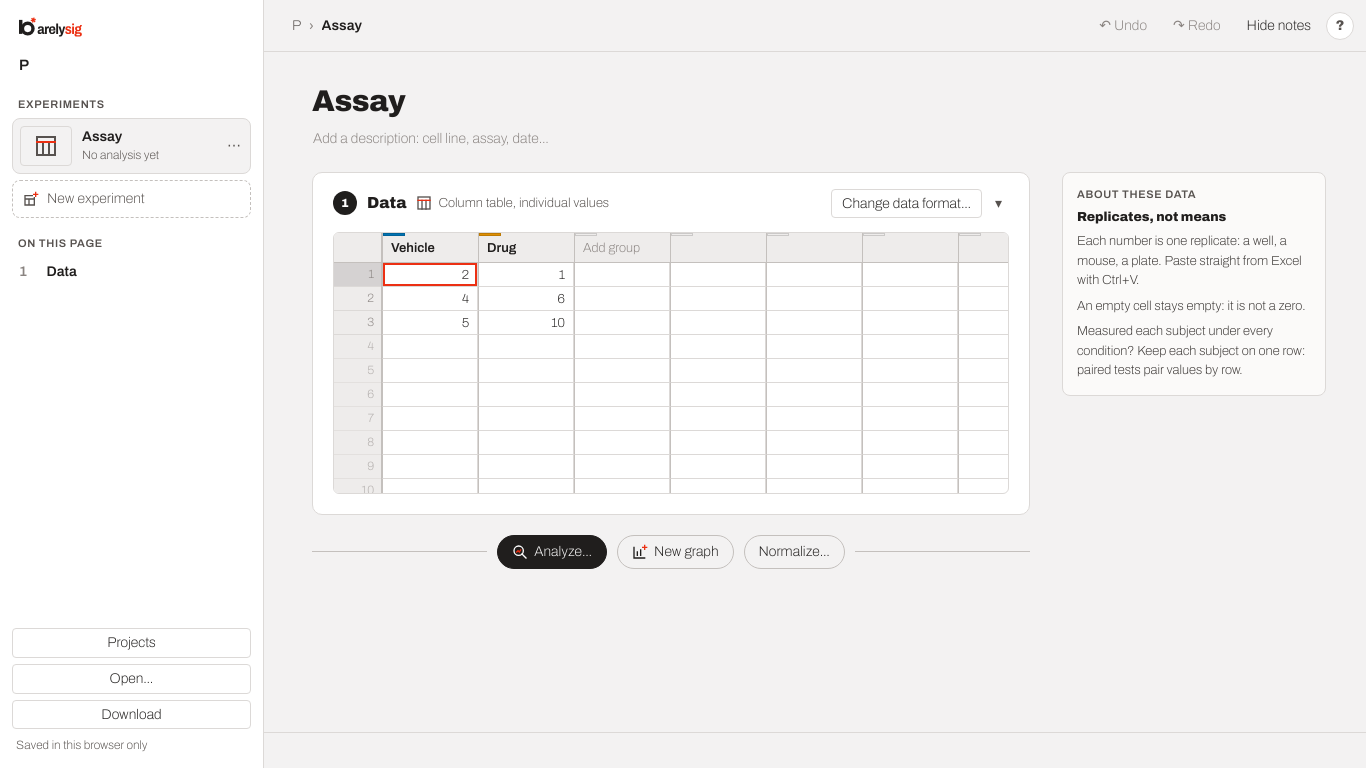
Test case: Normalize › refuses a control of zero in words and keeps the button off
Step 1. Click the button "Normalize…" → (794, 552), box [744,535,845,569]
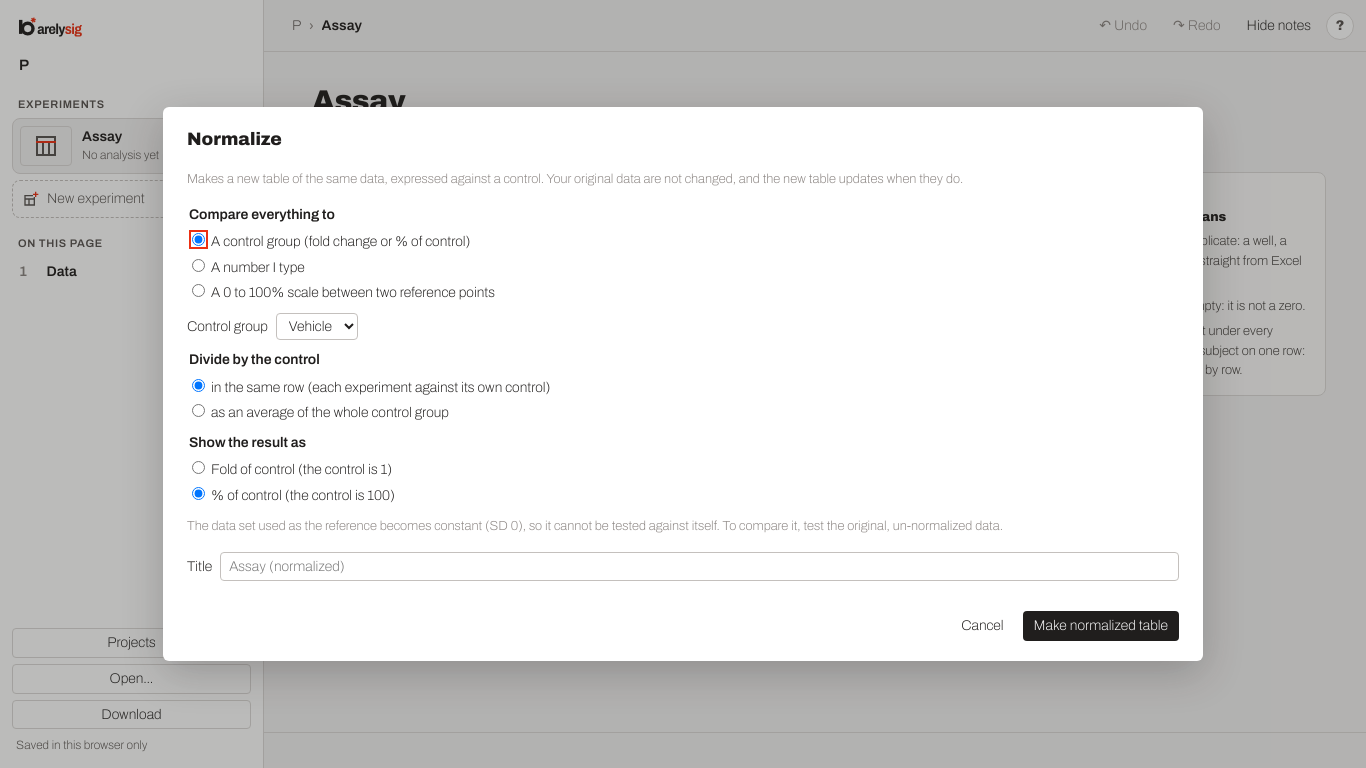
Step 2. Click the radio button labelled "as an average of the whole control group" → (198, 411), box [192,404,205,417]
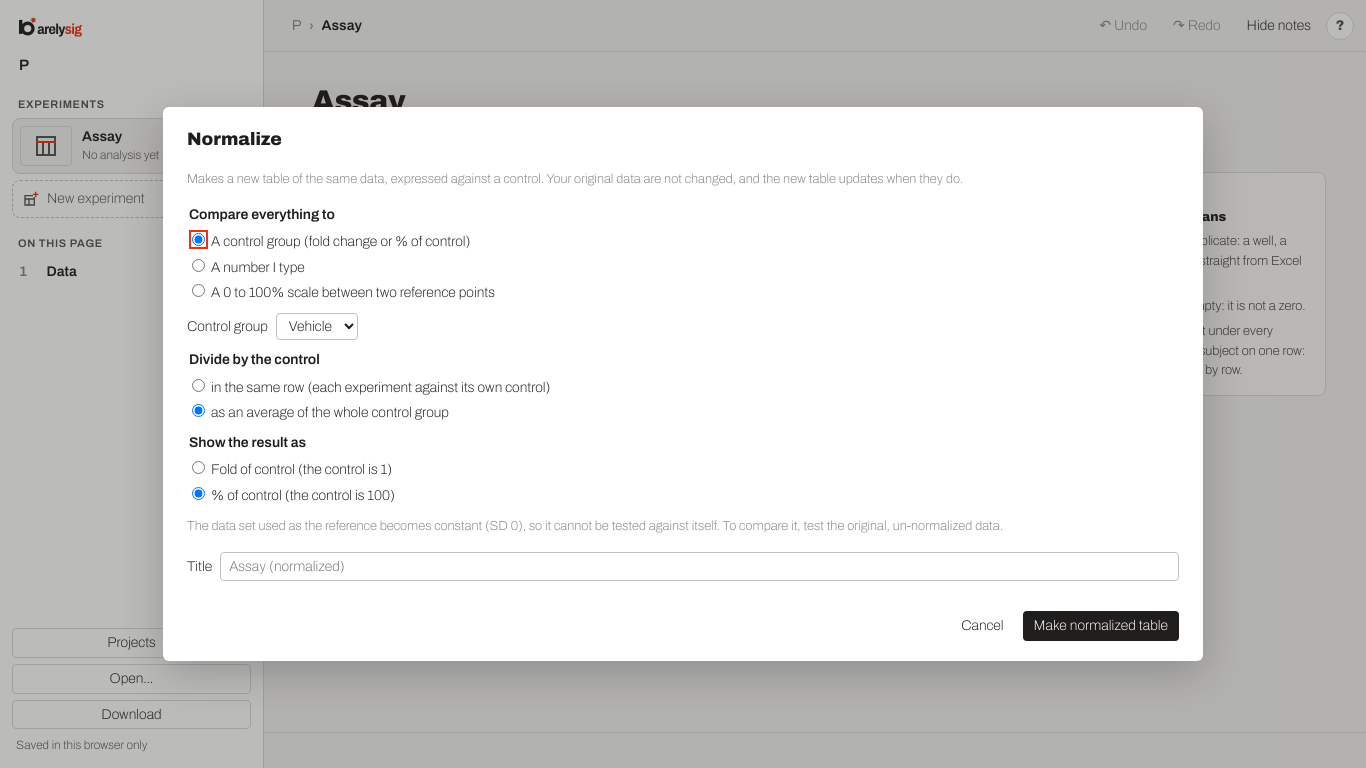
Step 3. Click the radio button labelled "A number I type" → (198, 265), box [192,259,205,272]
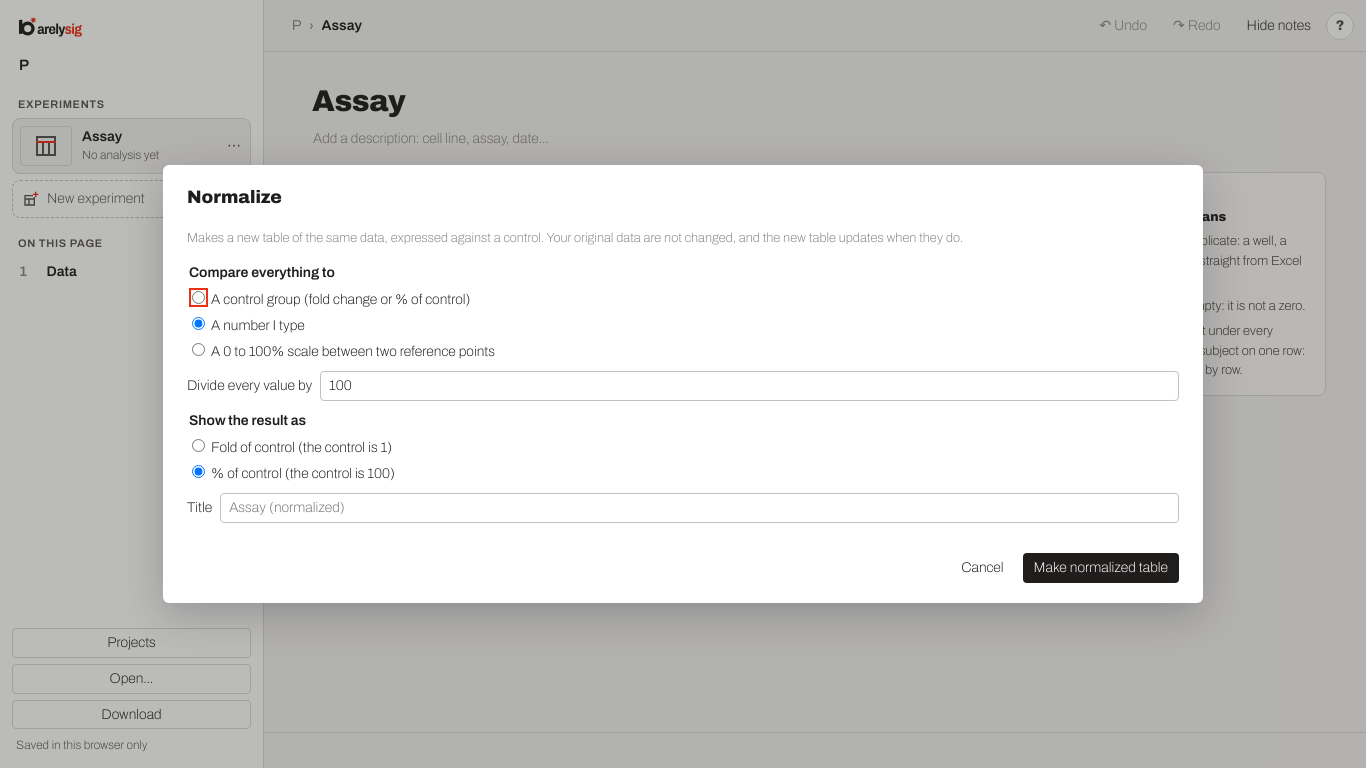
Step 4. Replace the text in the field labelled "Divide every value by" with "0" → (750, 386), box [320,371,1179,401]
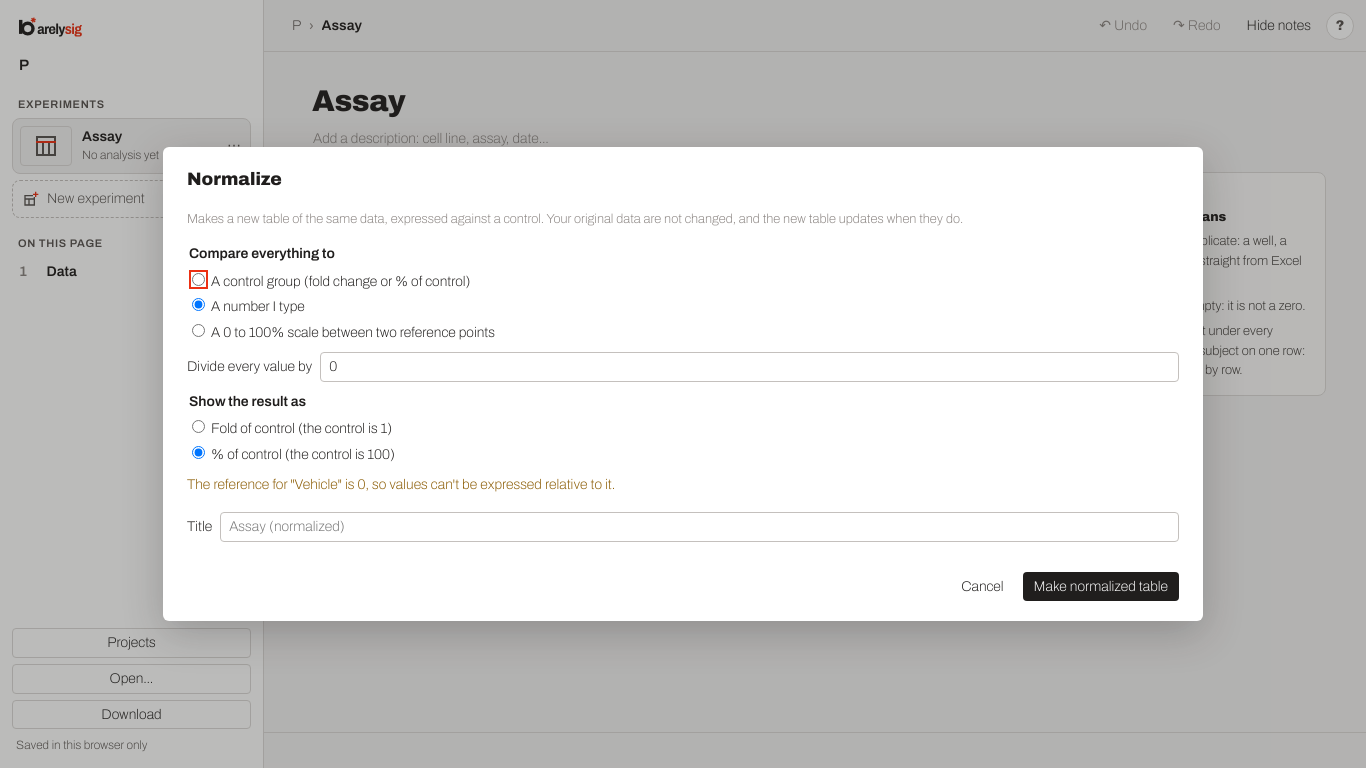
Expected: the message "The reference for \"Vehicle\" is 0, so values can't be expressed relative to it." is shown, [187,477,615,492]
Expected: the button "Make normalized table" is disabled, [1023,572,1179,602]
